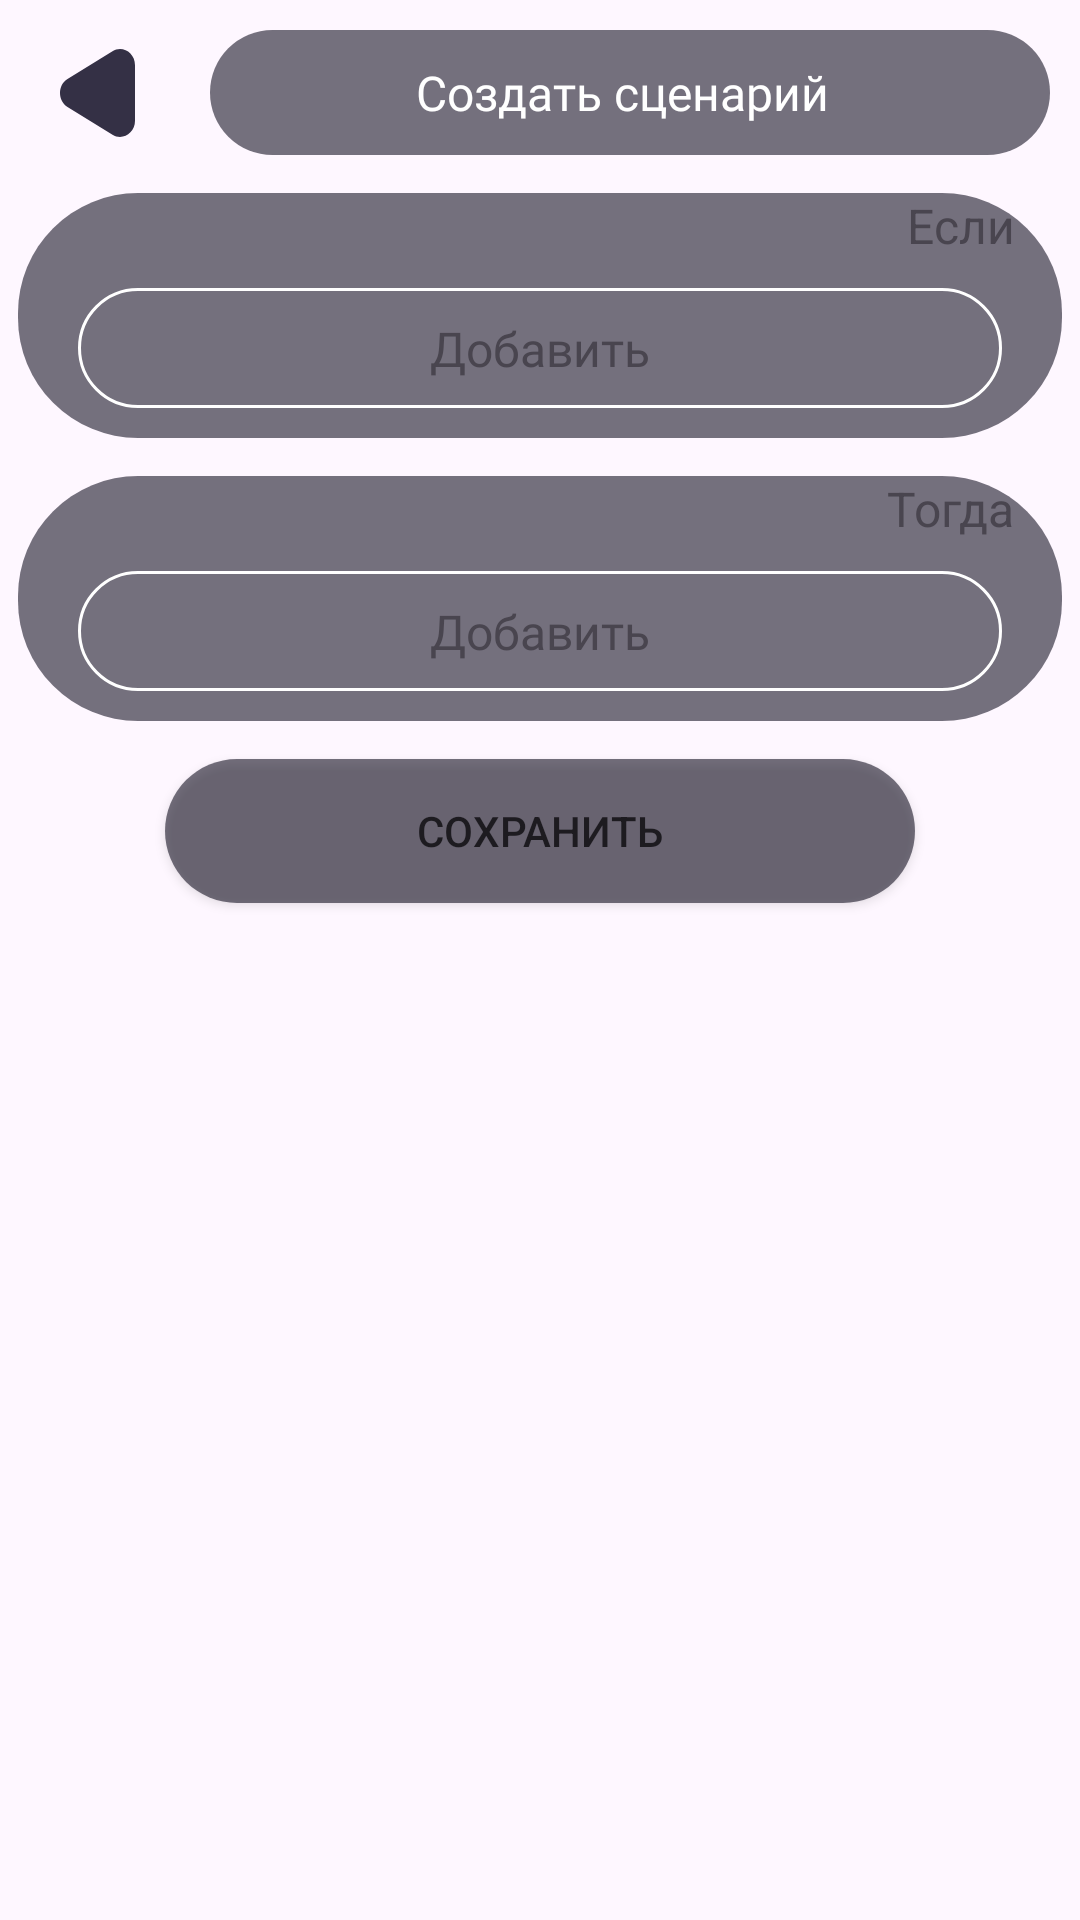

Screen size 1080px×1920px. Icon name, then its box in pixels as (x1, y1, x2, y2):
back: (60, 49, 135, 137)
